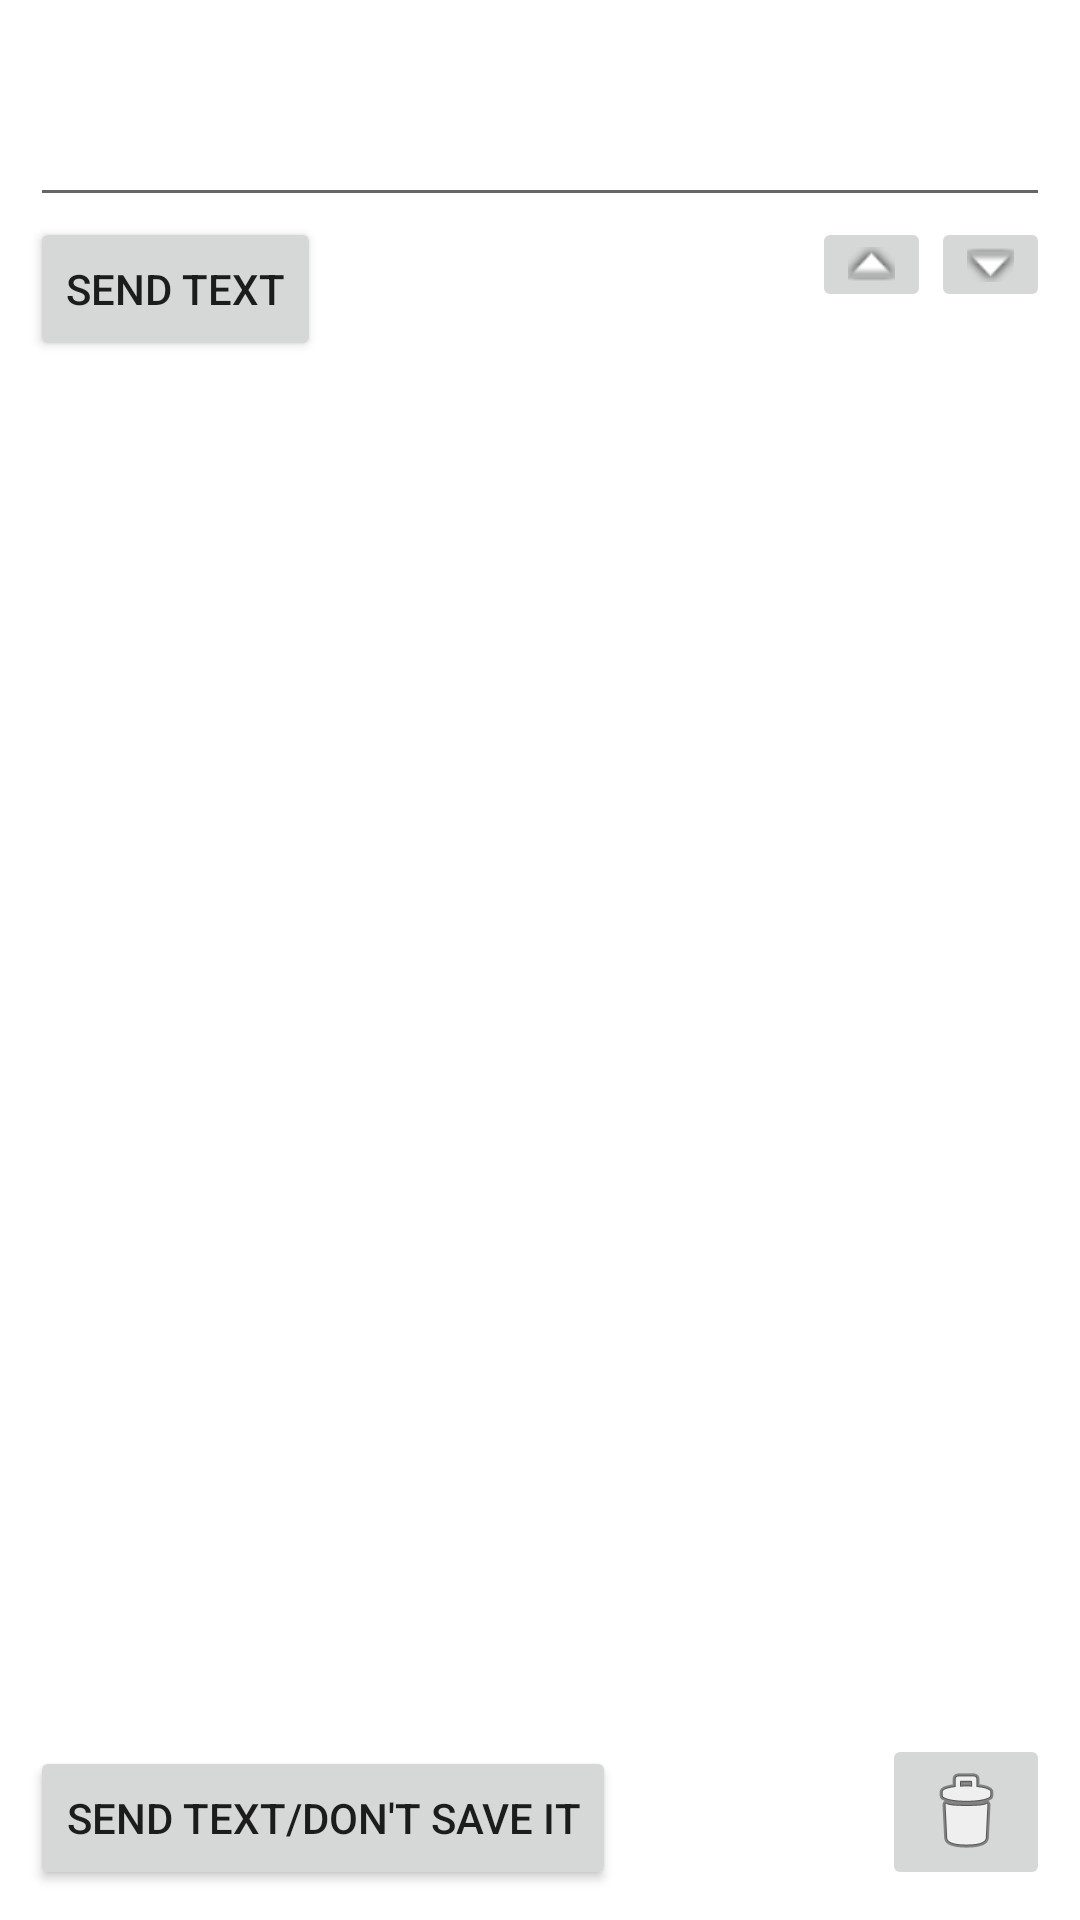

Where icons sit on this 1080x1920 app screen, as (x1, y1, x2, y2):
arrow down float: (943, 235, 1038, 294)
arrow up float: (824, 235, 919, 294)
delete: (894, 1752, 1038, 1872)
